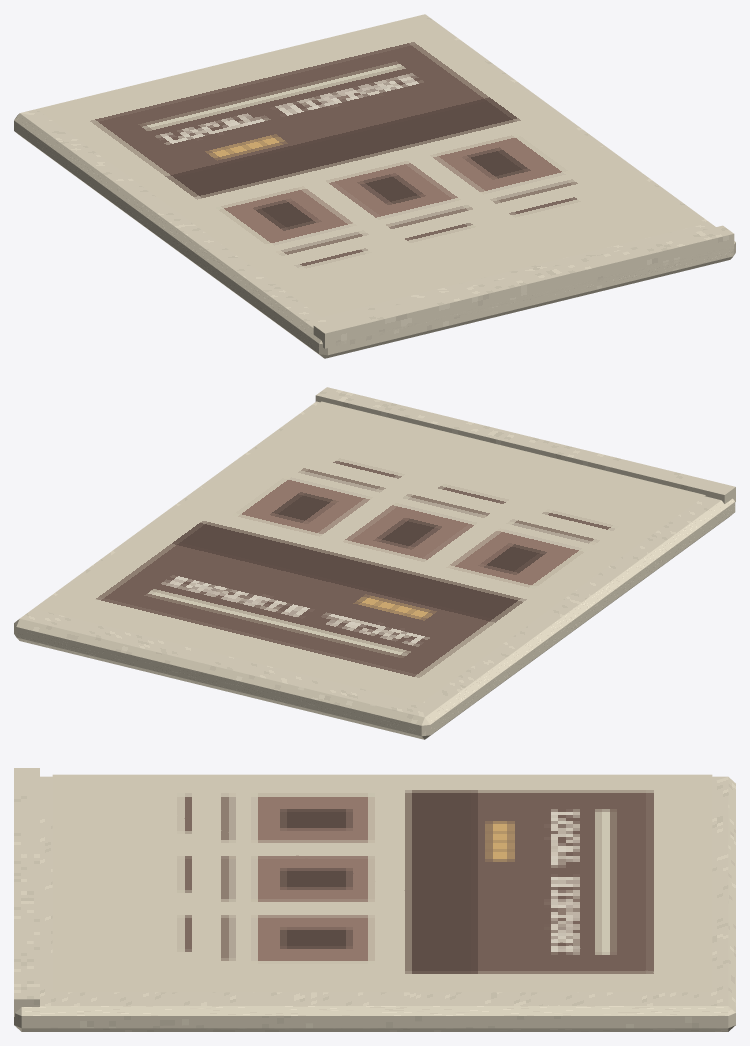
File: historybrochure.glb
The picture shows the model from 3 angles, top to bottom: view 1: azimuth 30°, elevation 25°; view 2: azimuth 150°, elevation 25°; view 3: azimuth 270°, elevation 25°; orthographic projection. The views are drawn at different scales.
Parts seen in each view (by area): view 1: block_typeset and illustrated leaflet cover, block_folded three-panel leaflet, block_folded leaf edge; view 2: block_typeset and illustrated leaflet cover, block_folded three-panel leaflet, block_folded leaf edge; view 3: block_typeset and illustrated leaflet cover, block_folded three-panel leaflet, block_folded leaf edge.
Boxes of the visible parts, <box> form: block_typeset and illustrated leaflet cover: <box>37,15,705,317</box>; block_folded three-panel leaflet: <box>14,14,735,358</box>; block_folded leaf edge: <box>313,225,734,348</box>; block_typeset and illustrated leaflet cover: <box>37,401,705,703</box>; block_folded three-panel leaflet: <box>14,401,735,739</box>; block_folded leaf edge: <box>315,387,735,503</box>; block_typeset and illustrated leaflet cover: <box>52,774,712,992</box>; block_folded three-panel leaflet: <box>14,776,735,1031</box>; block_folded leaf edge: <box>14,768,39,1016</box>.
Size of the model in its own units: 0.1927 by 0.0128 by 0.2495.
Materials: 1 (1 with a texture image).
